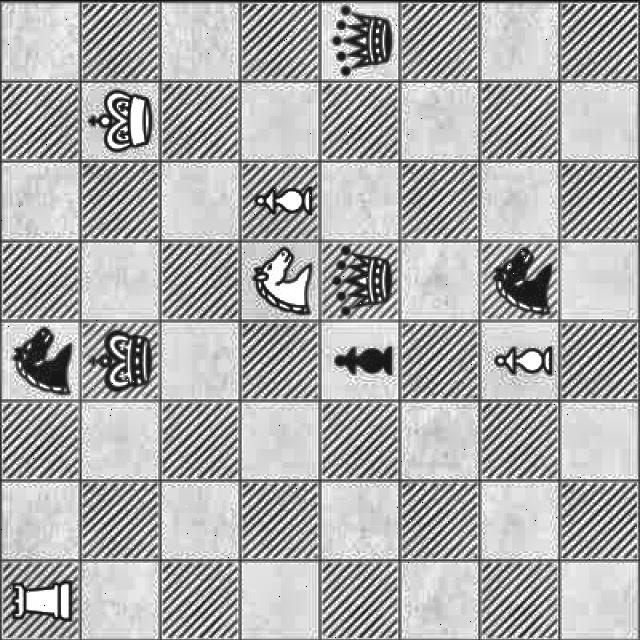Black Knight: (6, 328, 82, 396), (492, 246, 558, 314)
black king: (86, 320, 158, 398)
black pawn: (328, 327, 394, 392)
black queen: (326, 241, 394, 318), (326, 2, 394, 78)
white king: (85, 83, 154, 155)
white pawn: (489, 333, 557, 387), (254, 175, 317, 228)
white rook: (8, 570, 78, 626)
whiteknight: (248, 237, 318, 317)
